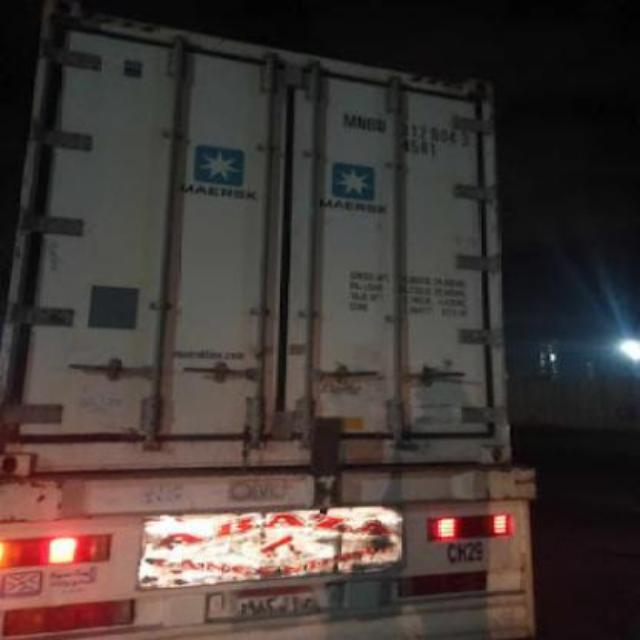1: (408, 114, 420, 142)
2: (416, 113, 429, 143)
3: (458, 127, 474, 147), (398, 120, 412, 142)
4: (448, 125, 460, 152)
6: (438, 119, 452, 151), (430, 118, 442, 146)
B: (366, 105, 376, 141)
M: (338, 106, 356, 136)
N: (356, 106, 368, 138)
U: (374, 106, 390, 142)
